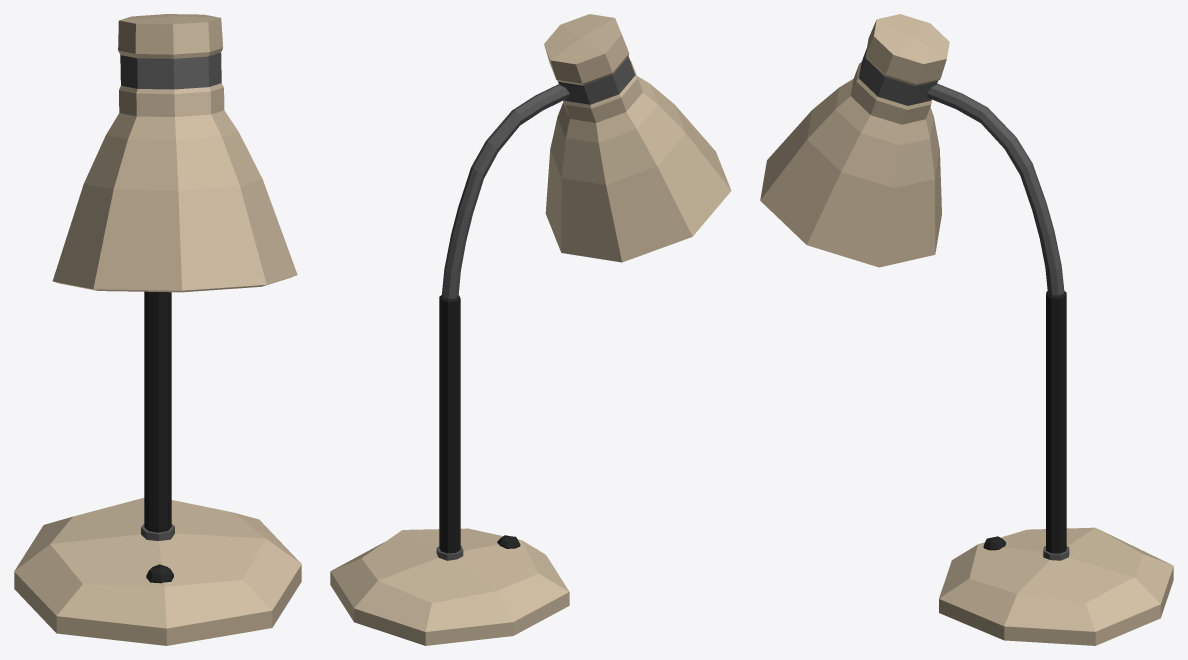
The model's file is Bedroom_Lamp.fbx.
3 renders of one model, left to right at view 1: azimuth 30°, elevation 25°; view 2: azimuth 150°, elevation 25°; view 3: azimuth 270°, elevation 25°, orthographic. The views are drawn at different scales.
Parts seen in each view (by area): view 1: Bedroom_Lamp; view 2: Bedroom_Lamp; view 3: Bedroom_Lamp.
Part boxes in pixels (x1=…): Bedroom_Lamp: x1=14, y1=14, x2=301, y2=645; Bedroom_Lamp: x1=330, y1=14, x2=731, y2=645; Bedroom_Lamp: x1=760, y1=14, x2=1173, y2=645.
Bounding box in the file's own units: 42.01 × 55.59 × 79.95.
